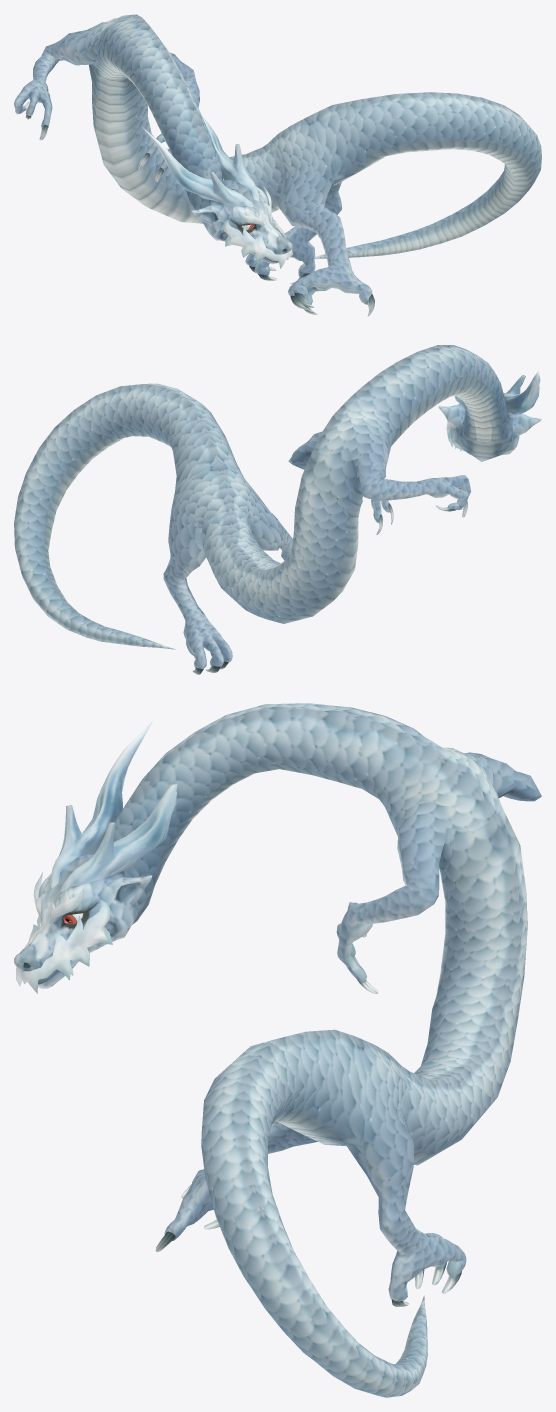
The model's file is dragone.gltf.
The picture shows the model from 3 angles, top to bottom: view 1: azimuth 30°, elevation 25°; view 2: azimuth 150°, elevation 25°; view 3: azimuth 270°, elevation 25°; orthographic projection. The views are drawn at different scales.
Parts seen in each view (by area): view 1: Dragon_body_Dragon_Body_0; view 2: Dragon_body_Dragon_Body_0; view 3: Dragon_body_Dragon_Body_0.
Part boxes in pixels (box(x1,y1,x2,y2)): Dragon_body_Dragon_Body_0: box(14, 14, 541, 316); Dragon_body_Dragon_Body_0: box(14, 345, 541, 674); Dragon_body_Dragon_Body_0: box(14, 703, 541, 1397).
Bounding box in the file's own units: 31.01 × 19.88 × 20.19.
Materials: 1 (1 with a texture image).
